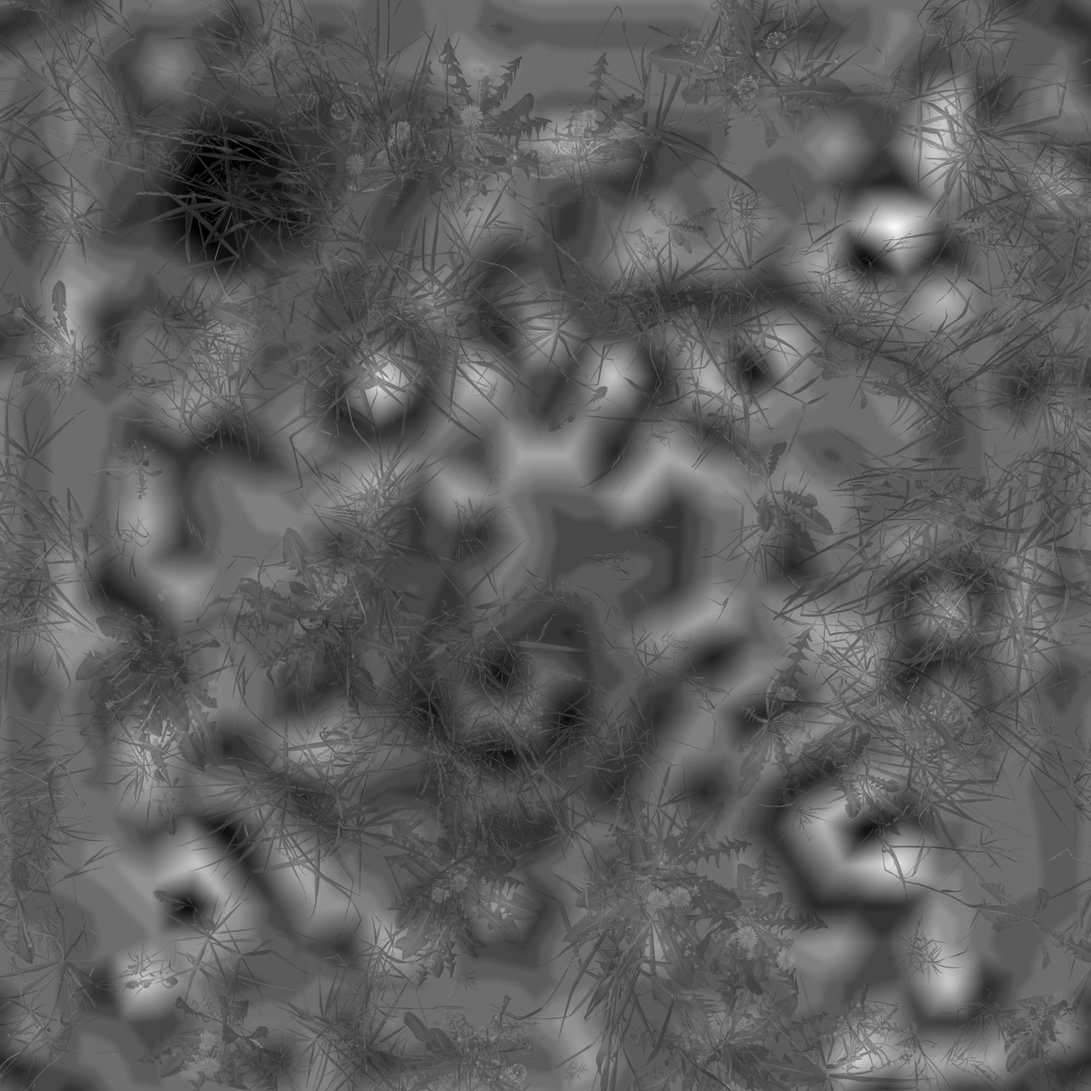landmine: (416, 594, 600, 768), (151, 116, 304, 267)
